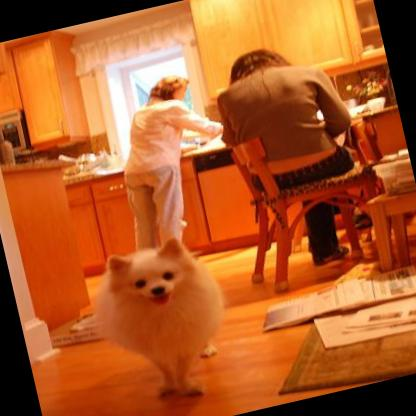Pomeranian: (82, 230, 241, 416)
